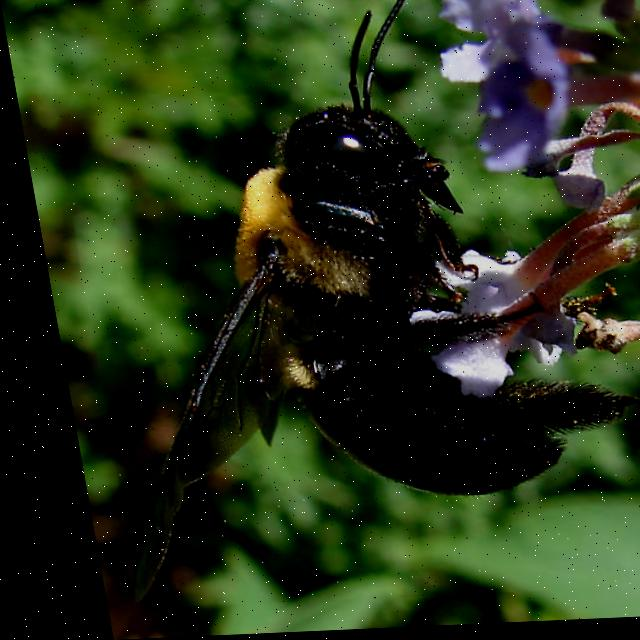Xylocopa: (34, 0, 640, 609)
